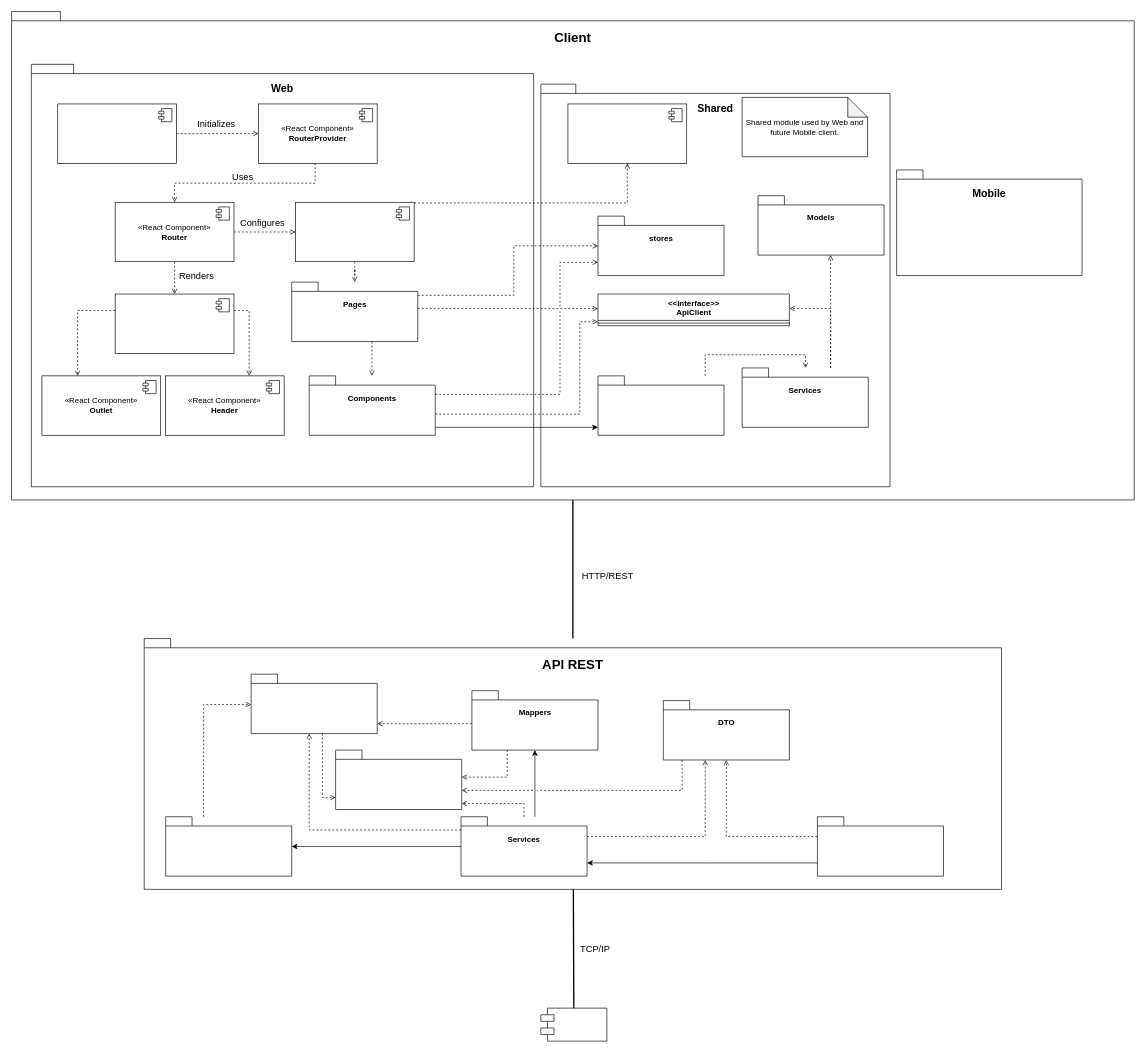
Some shapes in this 1146 by 1053 pixel diagram are drawn without their labels. Here are the shapes that lost their labels. From the top down, the centre of each, then its label:
point (117, 133): «React Component» Main
point (627, 133): <<Configuration>> Constants
point (354, 232): «Constants» Routes
point (174, 323): «React Component» App
point (660, 405): Interfaces
point (313, 704): Domain
point (398, 779): Enum
point (228, 846): Repostories
point (880, 846): Controllers
point (573, 1024): MySQL Database
